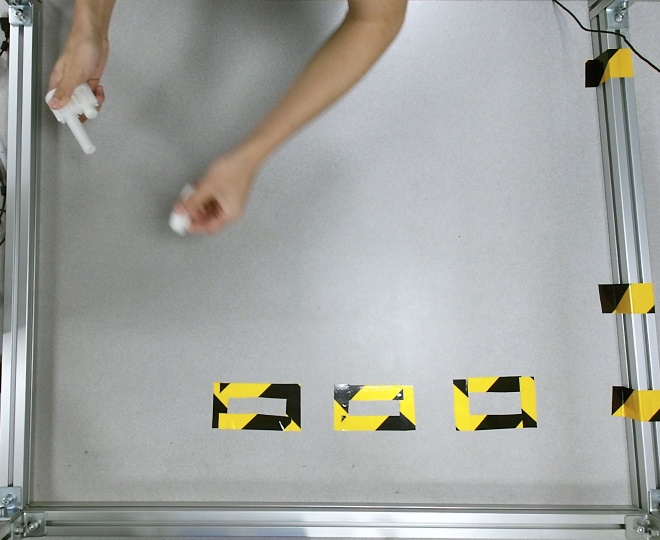stage_3: (45, 81, 97, 153)
